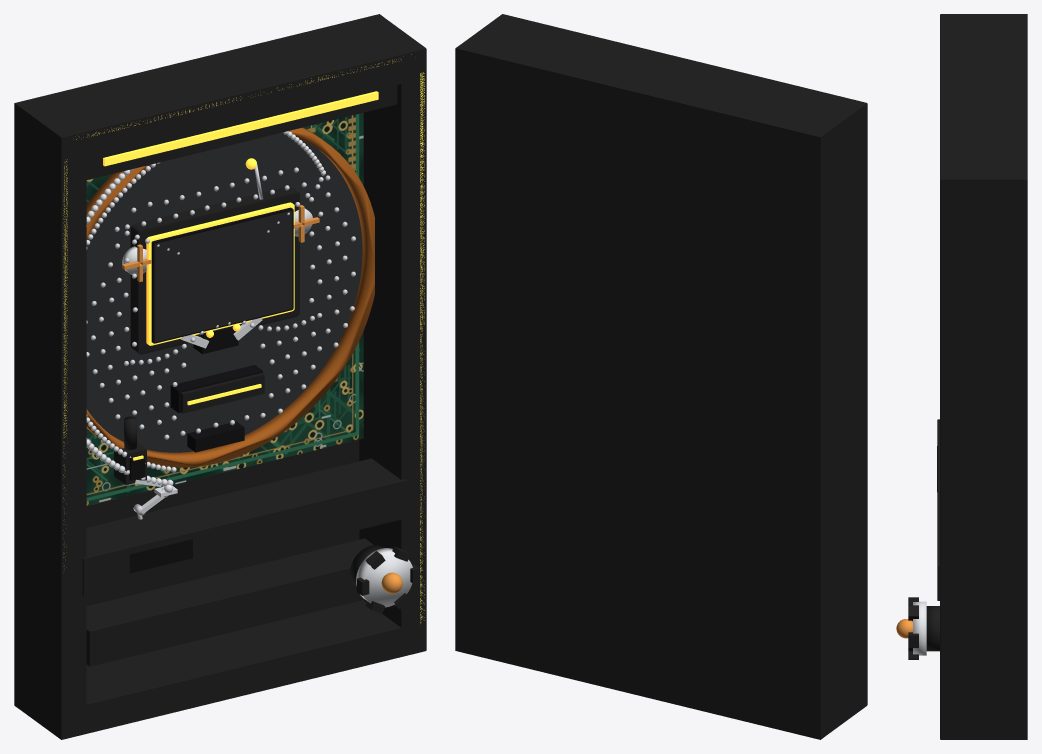
File: pachinko.glb
3 renders of one model, left to right at view 1: azimuth 30°, elevation 25°; view 2: azimuth 150°, elevation 25°; view 3: azimuth 270°, elevation 25°, orthographic. The views are drawn at different scales.
Parts seen in each view (by area): view 1: side_L, board, side_R, top, bottom, tray_top, tray_low, lcd_screen, back, panel, rail_out, lcd_bezel (+11 smaller); view 2: back, side_L, top, bottom; view 3: side_R, top, back, bottom, handle_base, handle_dial, tray_top, handle_knob.
Boxes of the visible parts, x1,y1,x2,y2 form: side_L: (17, 106, 86, 739); board: (86, 133, 362, 452); side_R: (359, 16, 426, 654); top: (17, 16, 426, 165); bottom: (17, 600, 426, 739); tray_top: (82, 458, 406, 596); tray_low: (86, 538, 373, 666); lcd_screen: (154, 210, 292, 342); back: (14, 14, 383, 708); panel: (86, 112, 363, 505); rail_out: (86, 127, 374, 467); lcd_bezel: (130, 186, 299, 354); back: (455, 46, 825, 739); side_L: (799, 103, 867, 735); top: (460, 14, 867, 162); bottom: (823, 677, 867, 737); side_R: (940, 168, 1022, 737); top: (940, 14, 1022, 202); back: (1018, 14, 1027, 739); bottom: (940, 712, 1022, 739); handle_base: (926, 606, 939, 651); handle_dial: (913, 601, 926, 655); tray_top: (937, 419, 939, 600); handle_knob: (896, 619, 912, 638).
Bounding box in the file's own units: 0.52 × 0.82 × 0.174.
11 materials, 1 textured.
